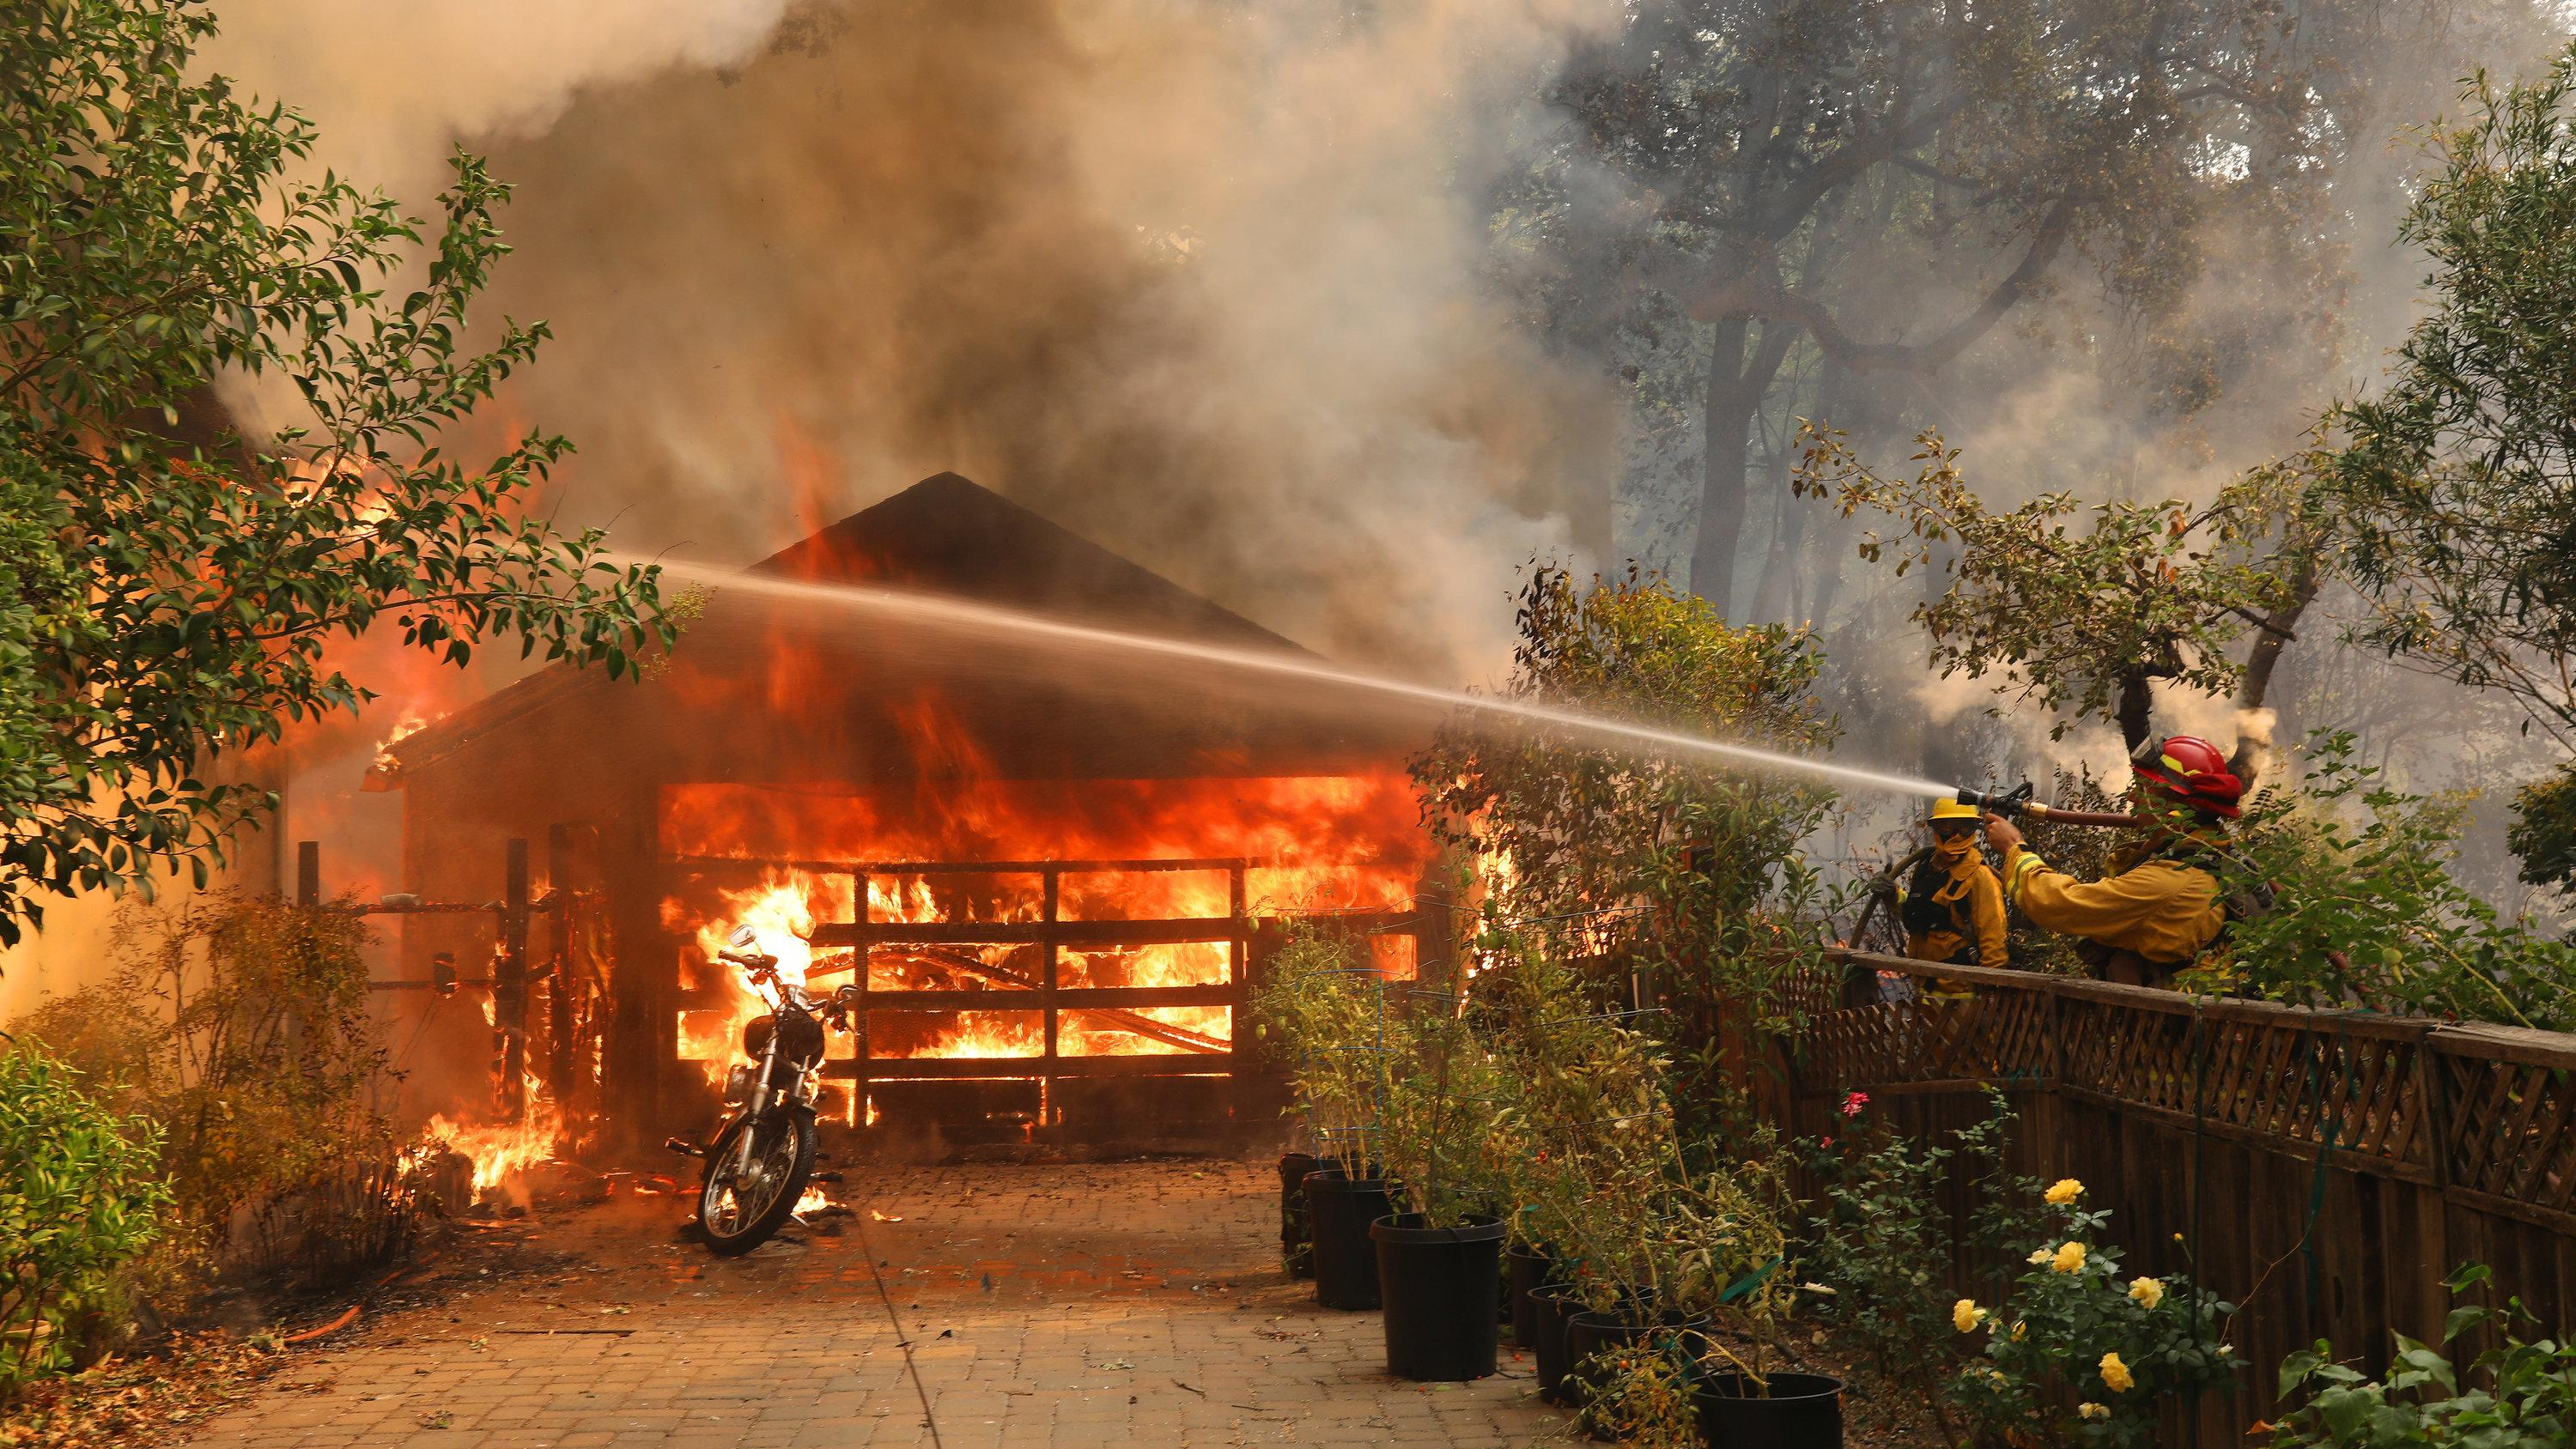Fire: (446, 617, 1530, 1251), (170, 380, 541, 640)
